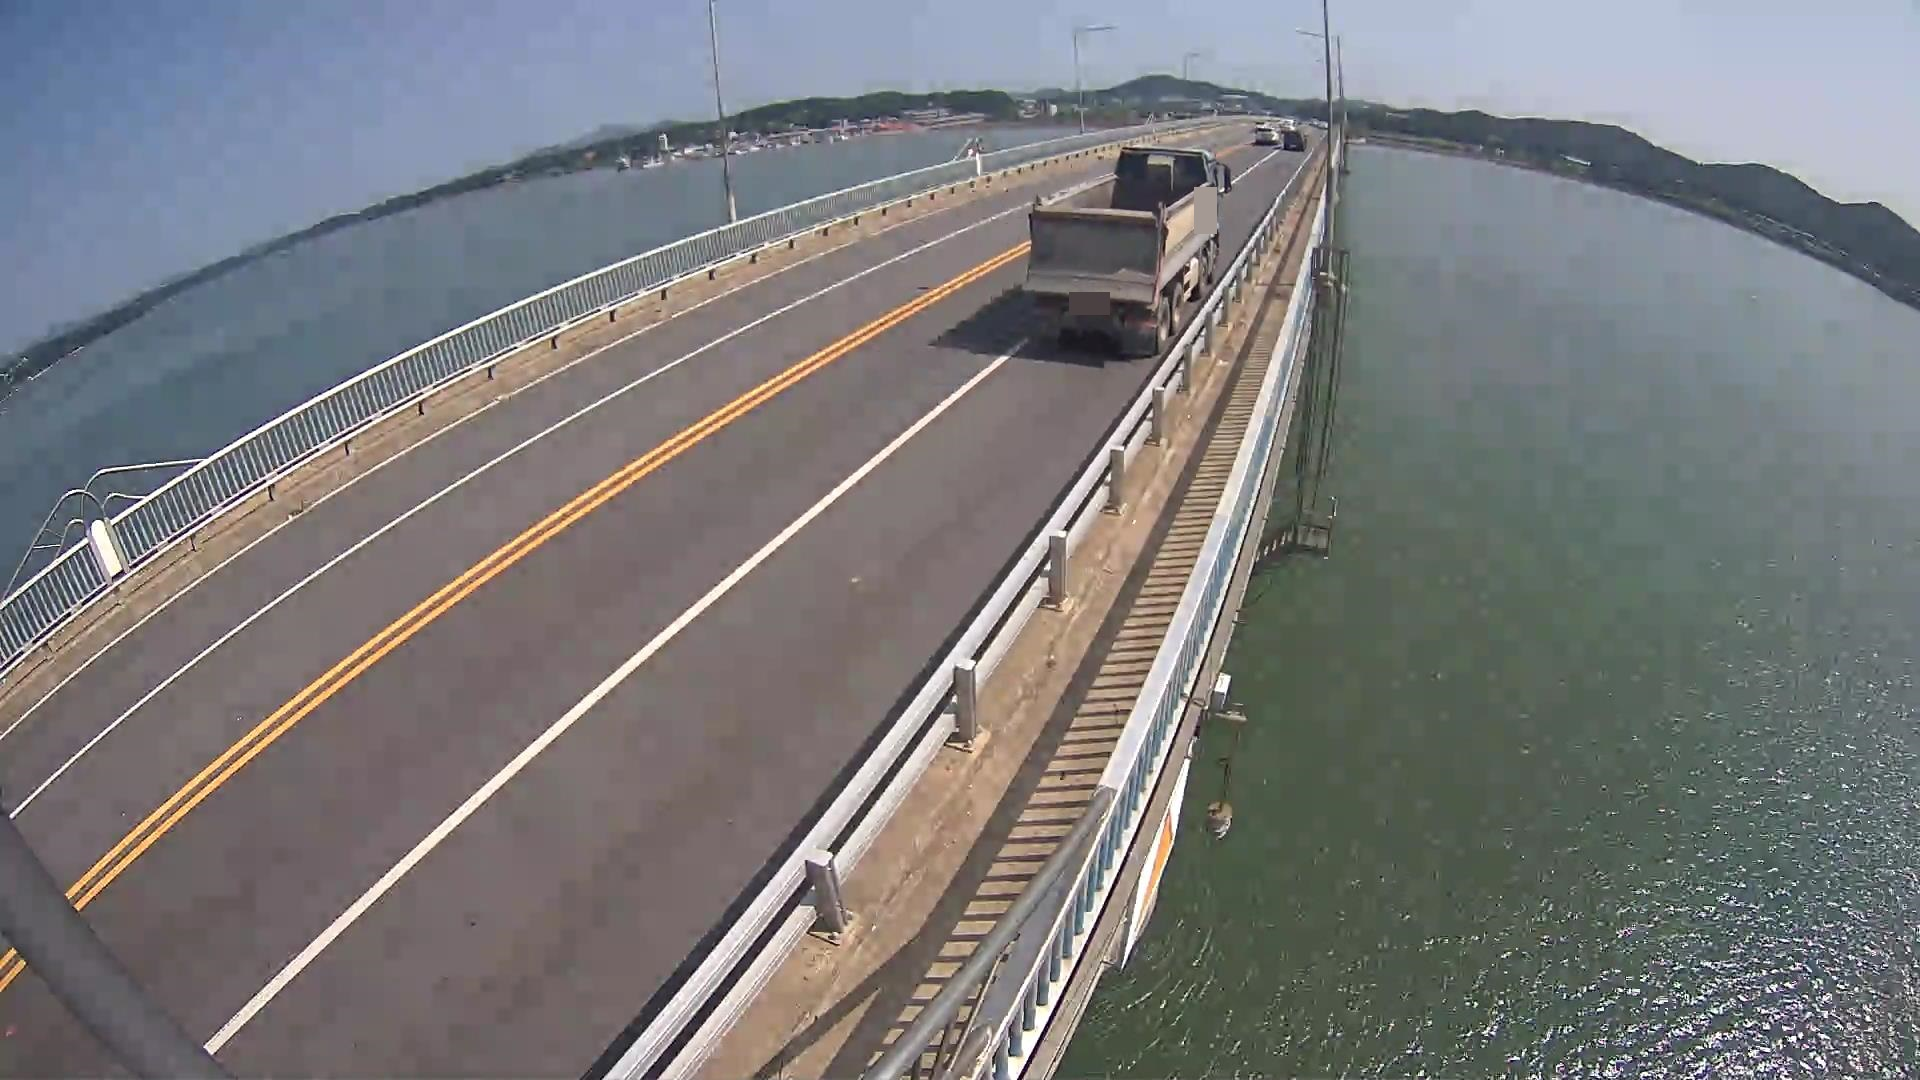정상차량: (1022, 146, 1232, 357)
